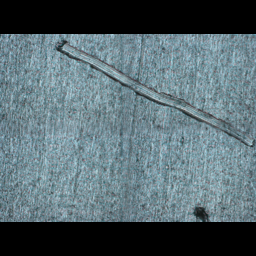d: (52, 39, 255, 149)
